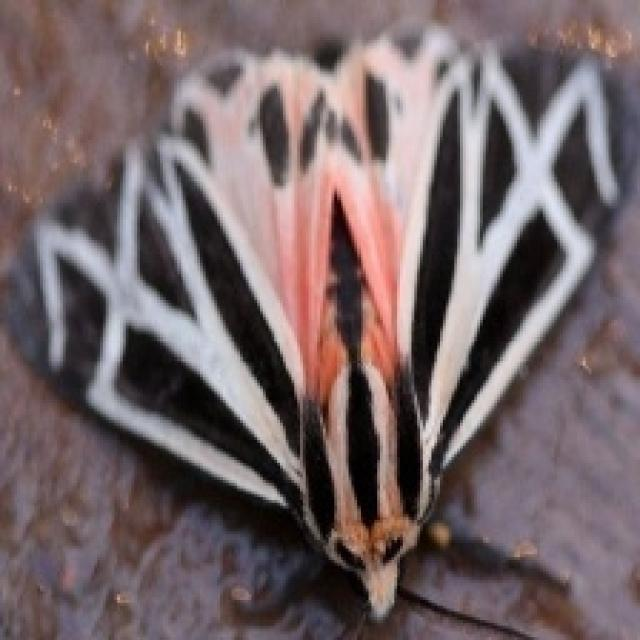butterfly: (0, 14, 634, 637)
